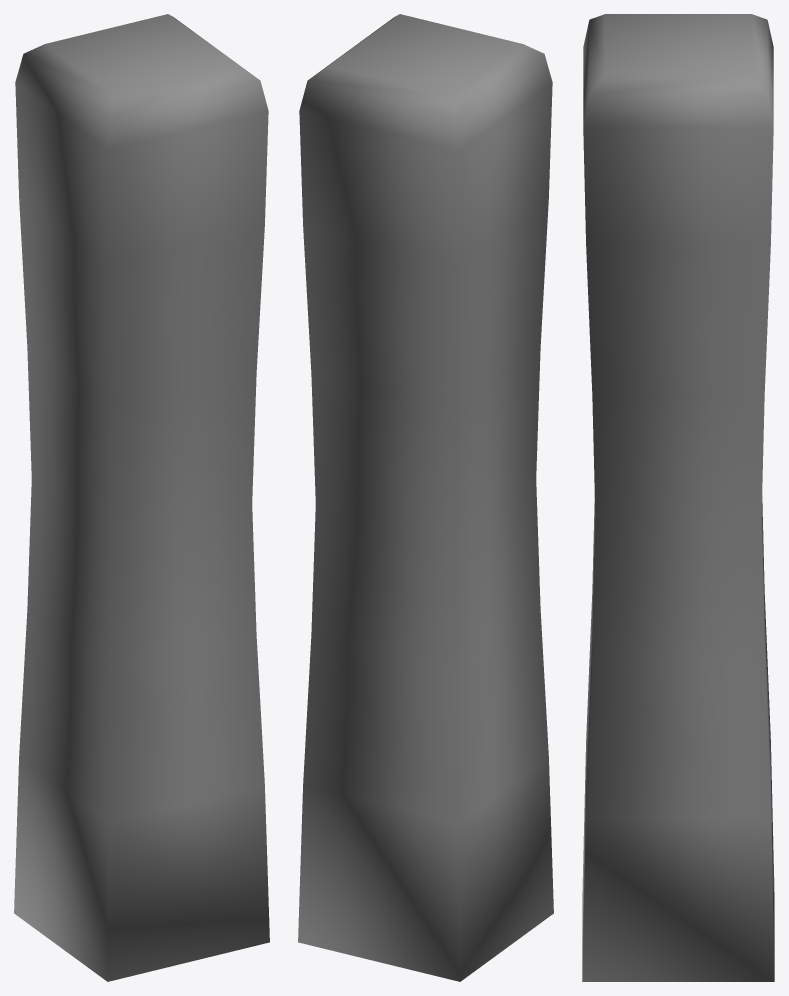
Rendered from GlassHalfWall_Post.glb.
3 renders of one model, left to right at view 1: azimuth 30°, elevation 25°; view 2: azimuth 150°, elevation 25°; view 3: azimuth 270°, elevation 25°, orthographic. The views are drawn at different scales.
Parts seen in each view (by area): view 1: 3-PostNARROWER.003; view 2: 3-PostNARROWER.003; view 3: 3-PostNARROWER.003.
Boxes of the visible parts, bbox=[...] form: 3-PostNARROWER.003: bbox=[14, 14, 269, 981]; 3-PostNARROWER.003: bbox=[298, 14, 553, 981]; 3-PostNARROWER.003: bbox=[582, 14, 774, 981].
Size of the model in its own units: 0.1932 by 0.9929 by 0.1932.
1 material, 1 textured.
